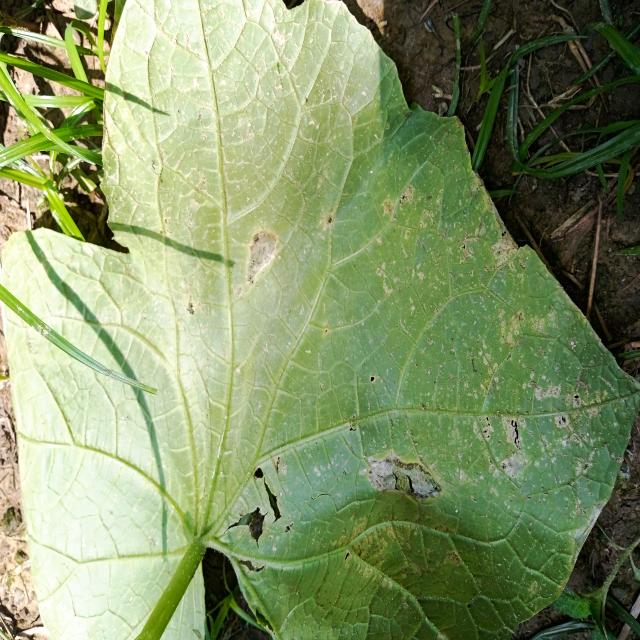Anthracnose: (226, 462, 296, 577)
